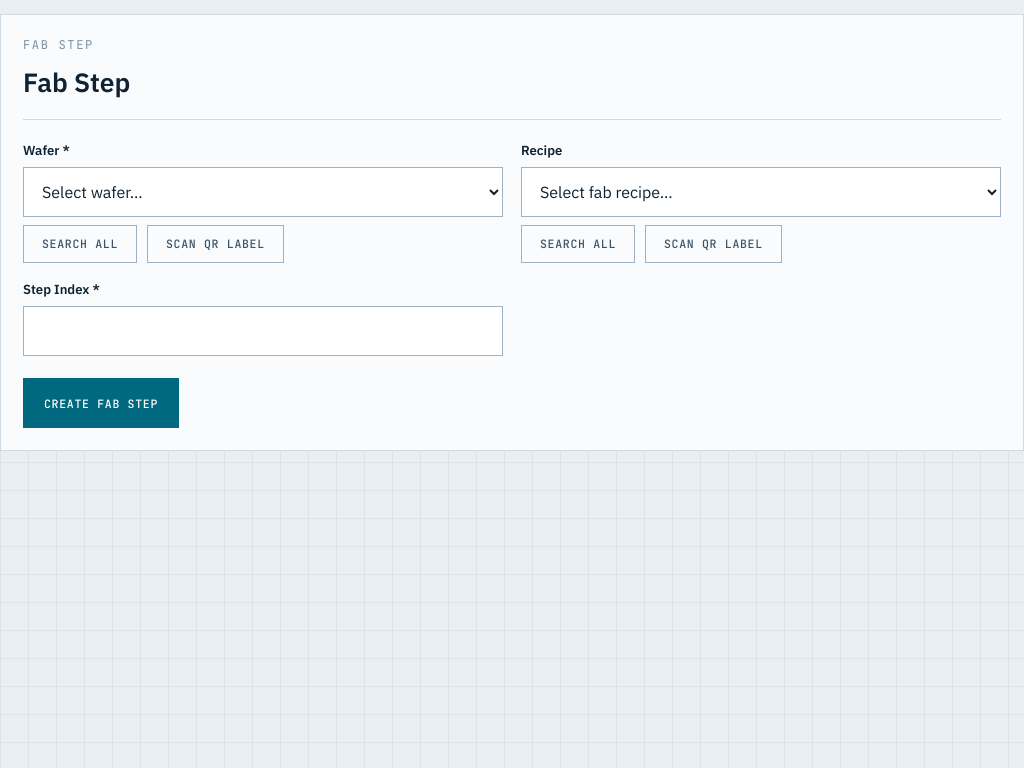
Step index suggestion › keeps the wafer and suggests the next index after a create
Select "W-2026-0002" in the dropdown labelled "Wafer *" at (263, 192), box [23,167,503,217]
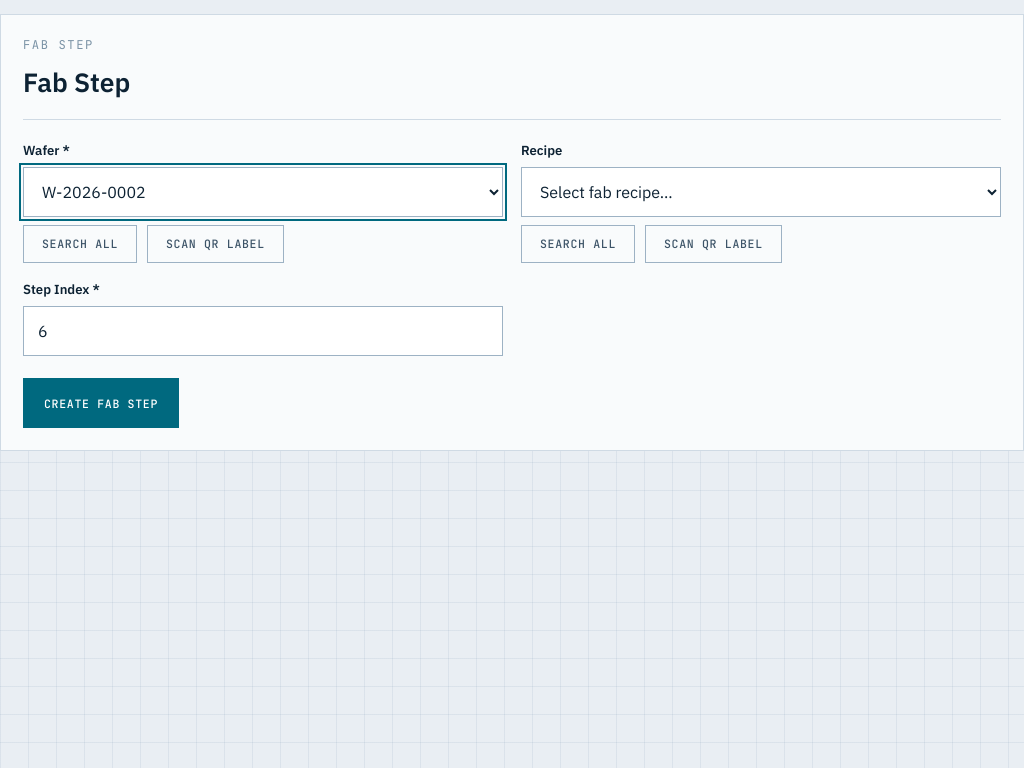
Expected: the number field labelled "Step Index *" holds "6", [23,306,503,356]
Click the button "Create fab step" at (101, 403), box [23,378,179,428]
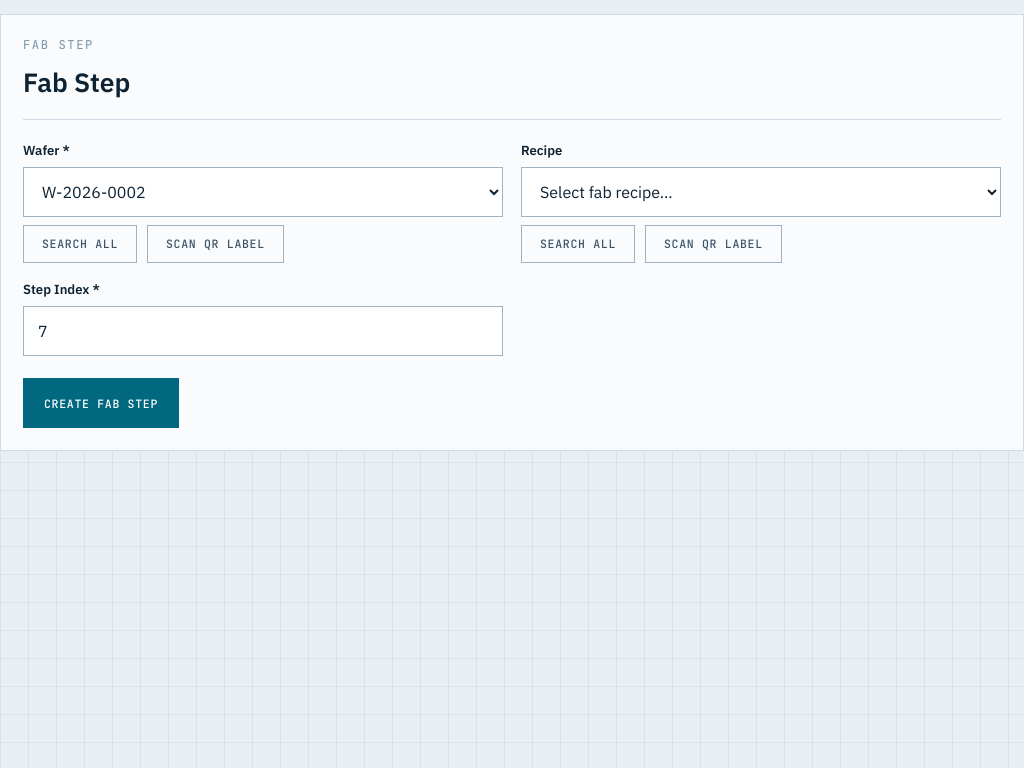
Expected: the number field labelled "Step Index *" holds "7", [23,306,503,356]
